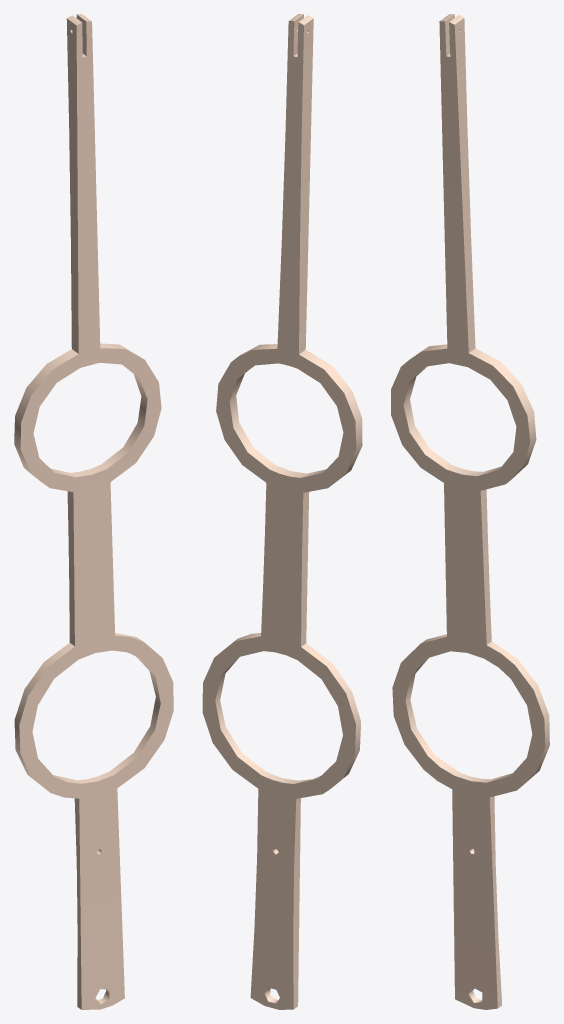
Rendered from Tige de balancier.obj.
The picture shows the model from 3 angles, left to right: view 1: azimuth 30°, elevation 25°; view 2: azimuth 150°, elevation 25°; view 3: azimuth 330°, elevation 25°; orthographic projection.
Visible parts, largest first — view 1: Face_28, Face_3, Face_4, Face_6, Face_5, Face_7, Face_21, Face_17; view 2: Face_27, Face_3, Face_7, Face_4, Face_5, Face_6, Face_21, Face_17; view 3: Face_28, Face_13, Face_12, Face_9, Face_11, Face_10, Face_19, Face_15.
Boxes of the visible parts, box(x1,y1,x2,y2) form: Face_28: box(19, 21, 173, 1009); Face_3: box(66, 18, 78, 353); Face_4: box(14, 349, 77, 486); Face_6: box(14, 643, 74, 788); Face_5: box(67, 491, 74, 646); Face_7: box(74, 798, 81, 1009); Face_21: box(101, 366, 147, 468); Face_17: box(109, 656, 160, 774); Face_27: box(202, 21, 356, 1009); Face_3: box(299, 18, 313, 354); Face_7: box(293, 798, 300, 1008); Face_4: box(299, 349, 362, 485); Face_5: box(301, 492, 309, 646); Face_6: box(301, 643, 360, 792); Face_21: box(229, 367, 275, 469); Face_17: box(215, 657, 265, 775); Face_28: box(391, 21, 545, 1009); Face_13: box(454, 18, 475, 352); Face_12: box(469, 348, 536, 482); Face_9: box(489, 796, 501, 1008); Face_11: box(480, 489, 491, 644); Face_10: box(487, 641, 549, 788); Face_19: box(403, 366, 451, 469); Face_15: box(405, 658, 458, 775).
Size of the model in its own units: 0.05 by 0.3079 by 0.0055.
